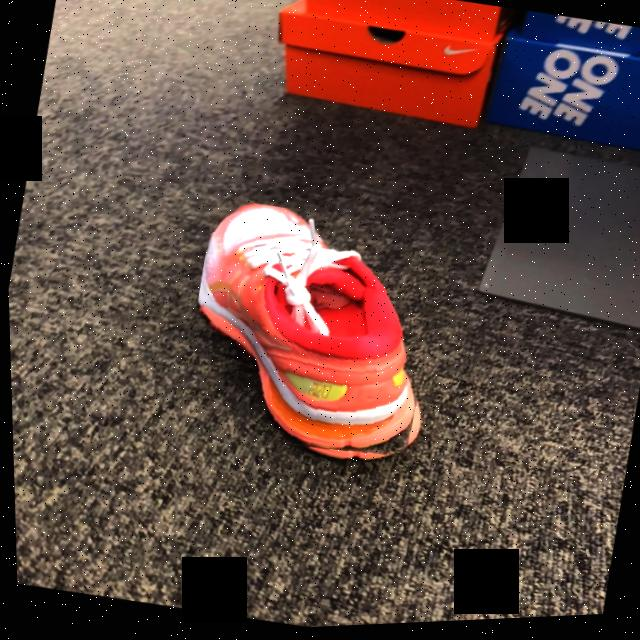shoe: (196, 206, 414, 455)
